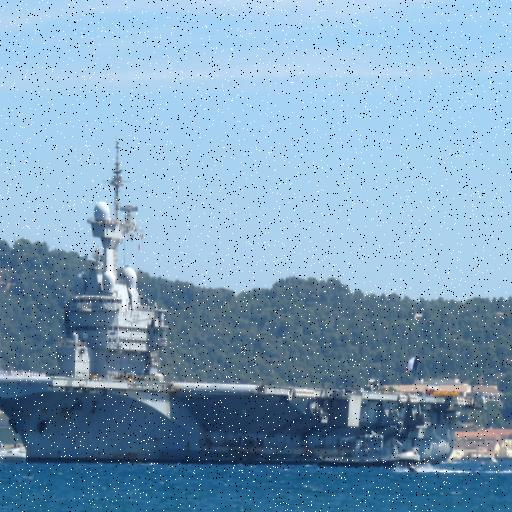Portanaves: (1, 138, 489, 465)
